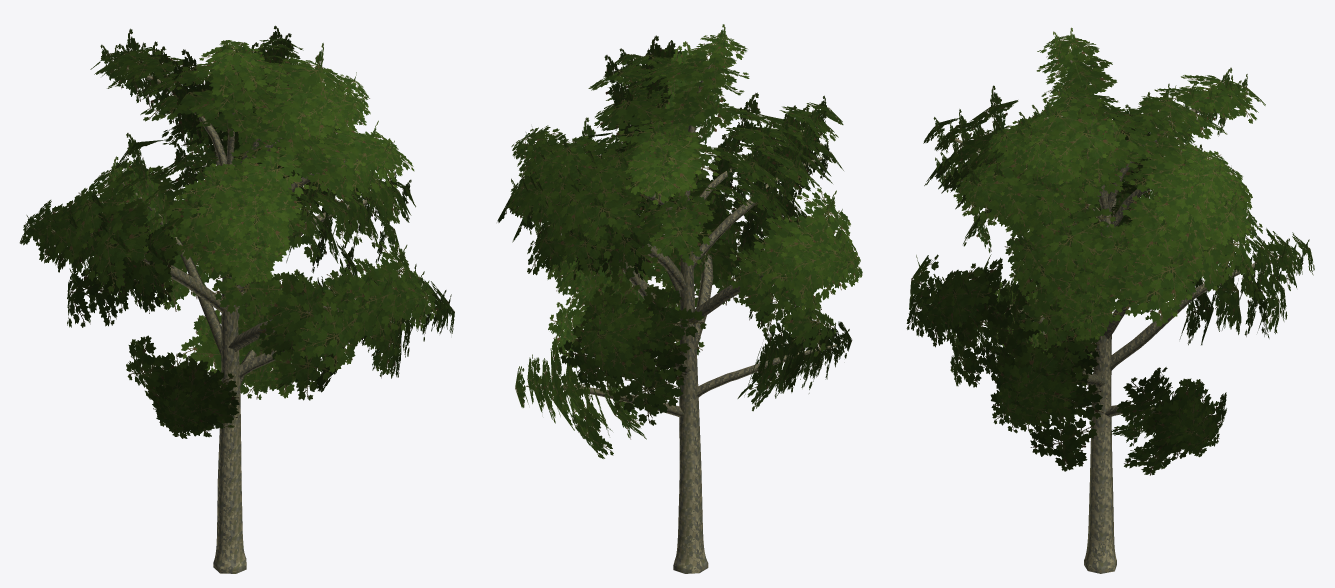
File: natural-plane.glb
3 renders of one model, left to right at view 1: azimuth 30°, elevation 25°; view 2: azimuth 150°, elevation 25°; view 3: azimuth 270°, elevation 25°, orthographic. The views are drawn at different scales.
Visible parts, largest first — view 1: leaves_lod2, trunk_lod2, branches_lod2; view 2: leaves_lod2, trunk_lod2, branches_lod2; view 3: leaves_lod2, trunk_lod2, branches_lod2.
Part boxes in pixels (bbox=[...]): leaves_lod2: bbox=[19, 25, 454, 438]; trunk_lod2: bbox=[213, 276, 246, 573]; branches_lod2: bbox=[46, 67, 436, 392]; leaves_lod2: bbox=[497, 24, 862, 458]; trunk_lod2: bbox=[673, 246, 708, 573]; branches_lod2: bbox=[526, 63, 836, 417]; leaves_lod2: bbox=[906, 27, 1314, 475]; trunk_lod2: bbox=[1084, 214, 1116, 573]; branches_lod2: bbox=[946, 60, 1293, 434].
Size of the model in its own units: 16.72 by 22.79 by 16.26.
Materials: 2 (2 with a texture image).
